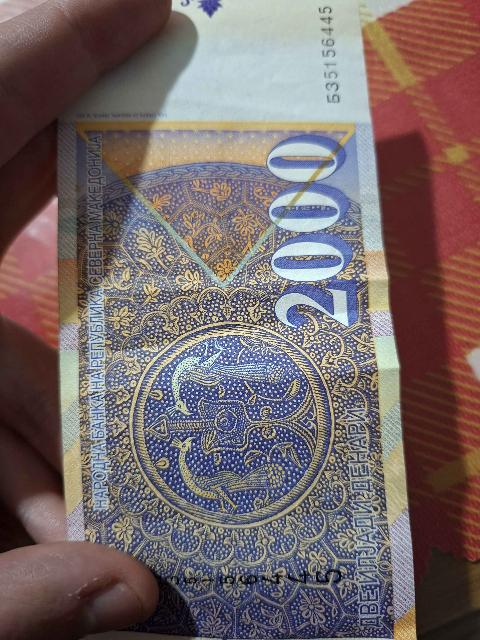2000_note: (60, 0, 420, 639)
